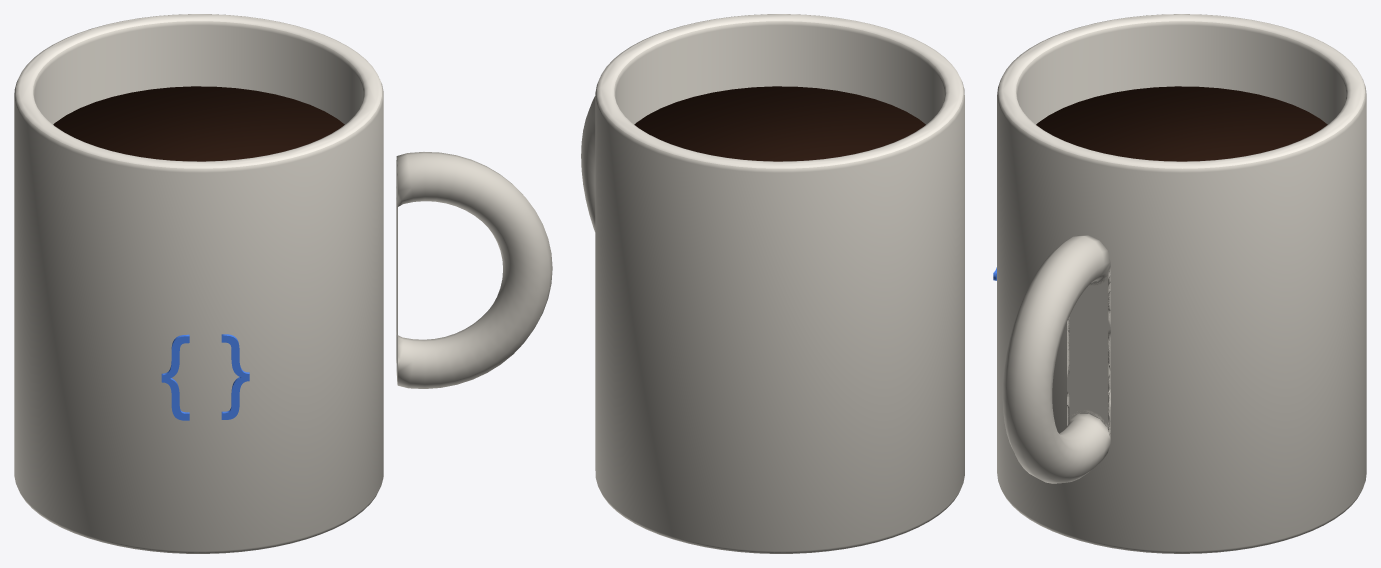
File: mug_white.glb
3 views of the same model, side by side, from view 1: azimuth 30°, elevation 25°; view 2: azimuth 150°, elevation 25°; view 3: azimuth 270°, elevation 25° (orthographic).
Parts seen in each view (by area): view 1: mug_white; view 2: mug_white; view 3: mug_white.
Boxes of the visible parts, bbox=[...] form: mug_white: bbox=[14, 14, 552, 553]; mug_white: bbox=[581, 14, 964, 553]; mug_white: bbox=[993, 14, 1366, 553].
Size of the model in its own units: 0.111 by 0.095 by 0.0828.
